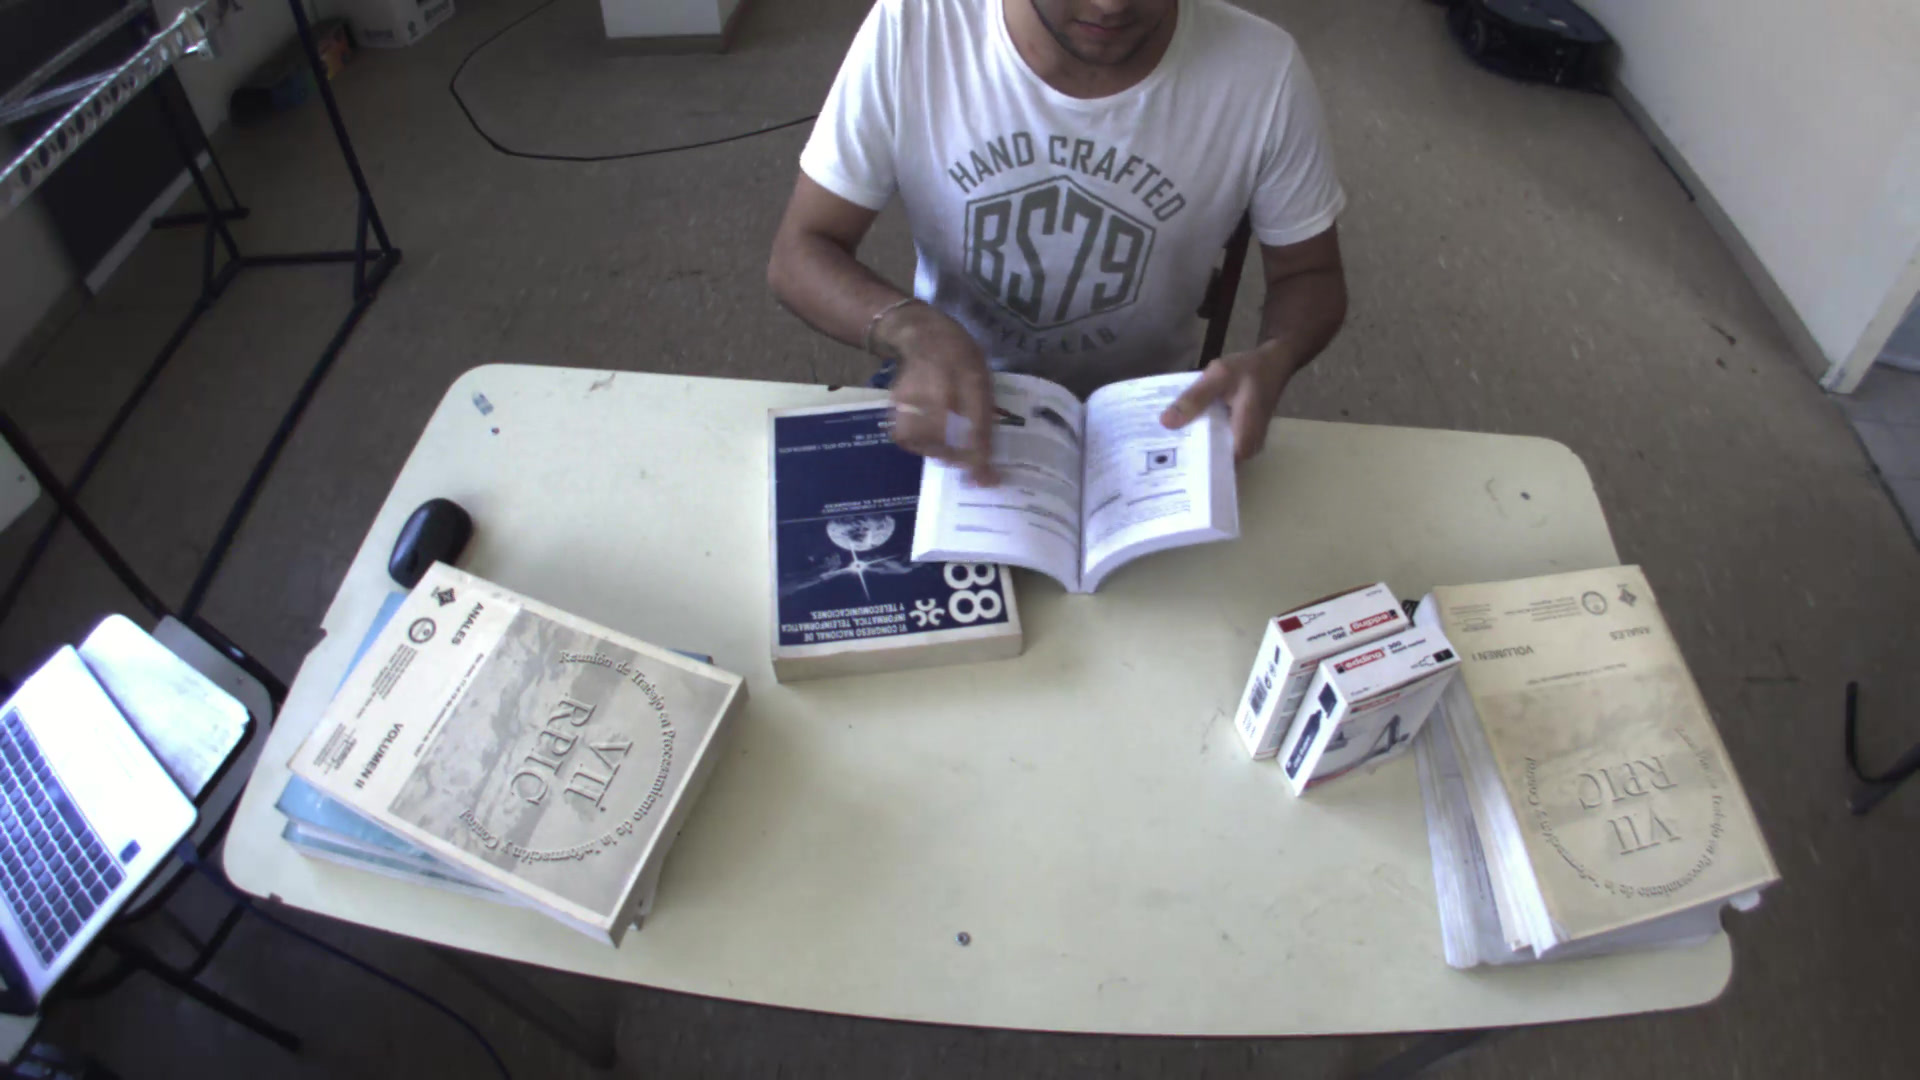hand: (861, 298, 1004, 475), (1153, 338, 1308, 460)
